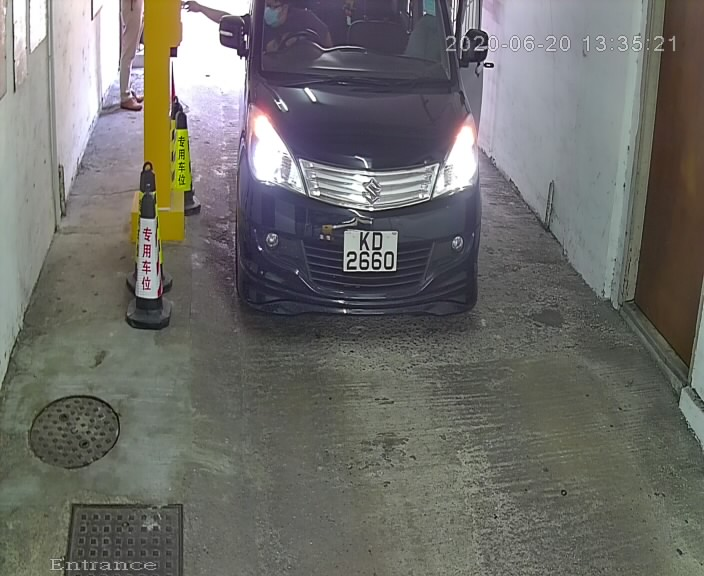privatecar: (226, 3, 509, 355)
